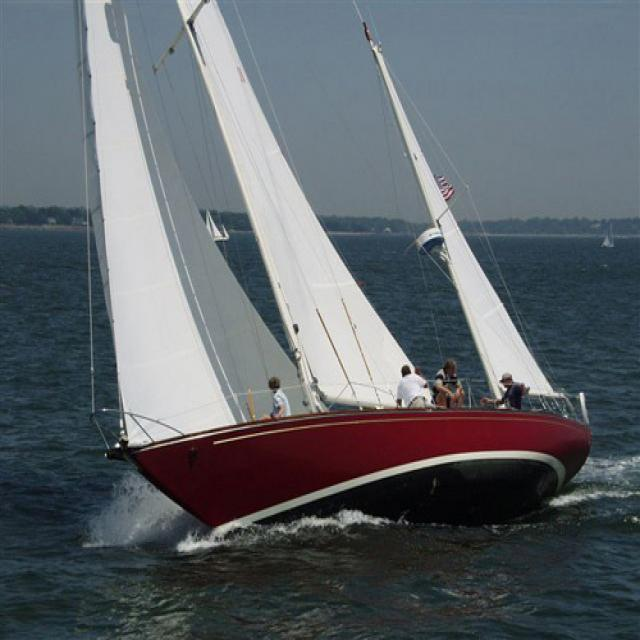Ship: (58, 1, 597, 540)
